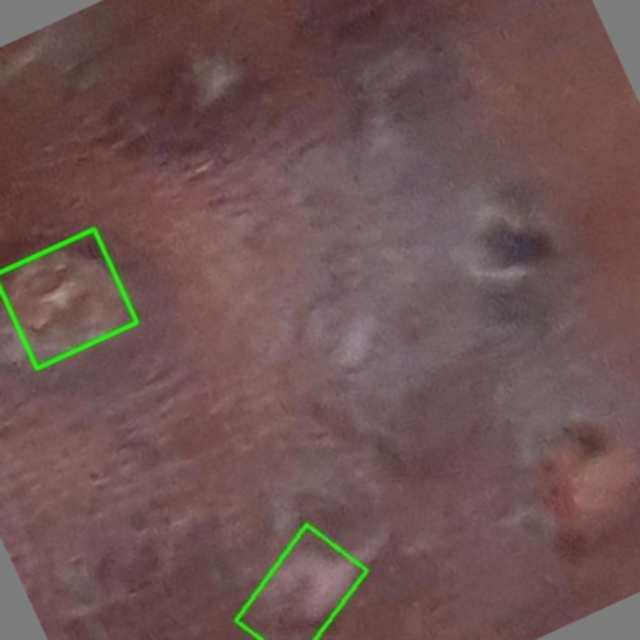Eczema: (0, 229, 137, 368), (235, 525, 367, 639)
